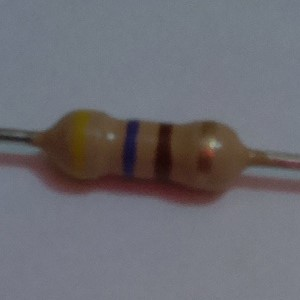brown_band: (151, 121, 176, 182)
gold_band: (194, 118, 217, 191)
violet_band: (119, 117, 142, 180)
yellow_band: (69, 109, 95, 181)
